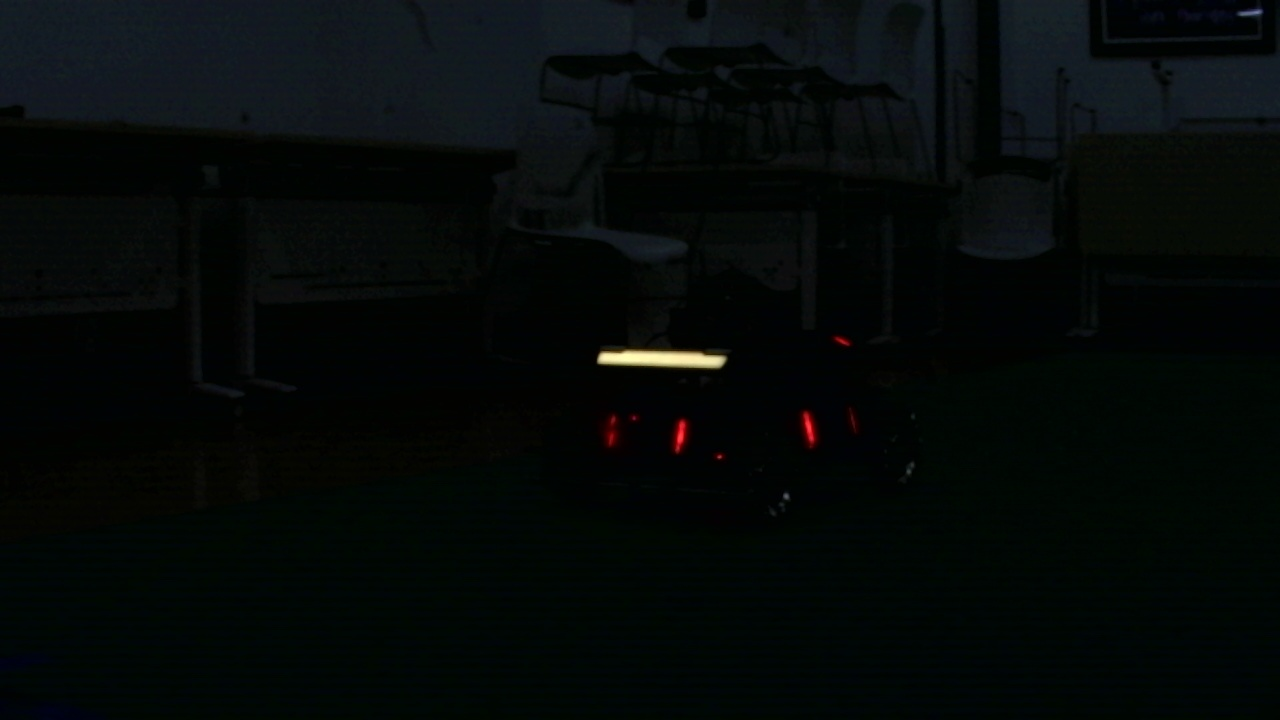lamp: (800, 409, 818, 447), (672, 414, 688, 455)
